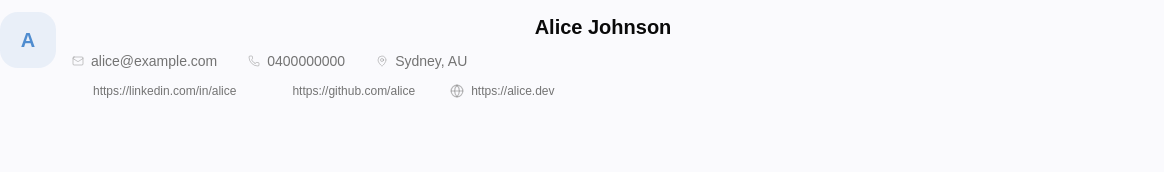
Scenario: ReviewProfileSection — EditableField interactions › switches the name to an input when clicked
Click the button "Alice Johnson": (612, 27) [72, 12, 1152, 42]
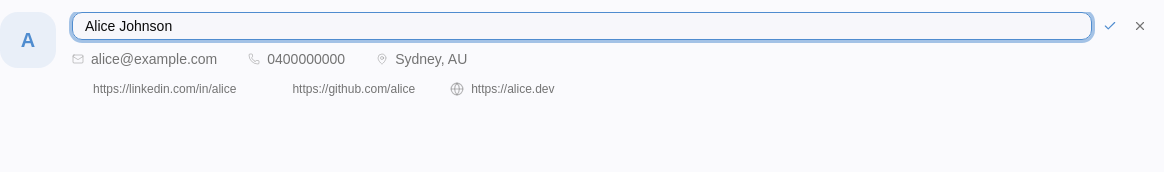
Check: the field showing "Alice Johnson" is shown, box [72, 12, 1092, 40]
